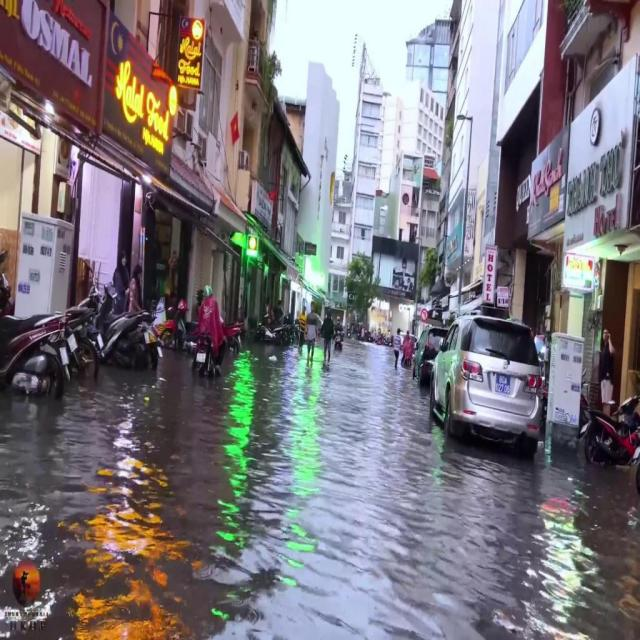cam_re_trai: (419, 307, 429, 323)
